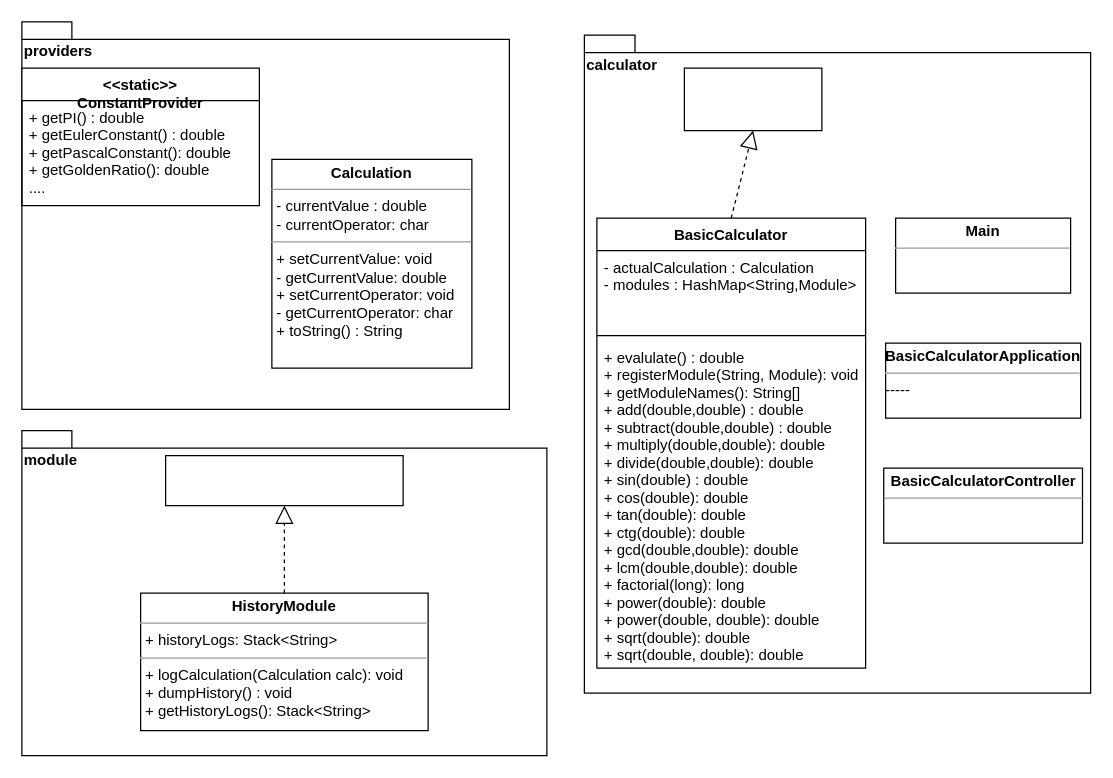
Some shapes in this 1113 by 778 pixel diagram are drawn without their labels. The centre of each missing label's shape, as x and y in pixels:
<<Interface>> Module: point 283,480
«interface» ICalculator: point 752,99
